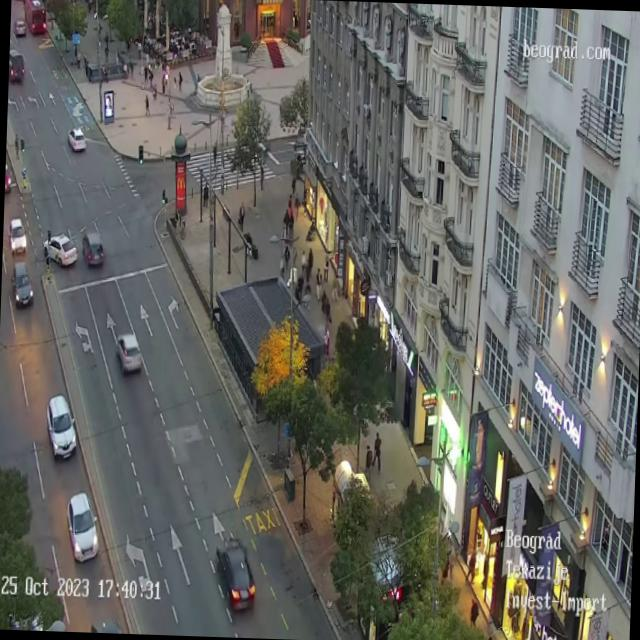bus: (22, 0, 48, 36)
car: (214, 535, 256, 612), (64, 491, 100, 563), (44, 393, 78, 461), (42, 232, 78, 268), (114, 332, 142, 374), (10, 260, 34, 306), (80, 232, 104, 266), (7, 218, 27, 255), (8, 47, 23, 82), (67, 128, 86, 152), (14, 19, 26, 38), (4, 170, 10, 196)
